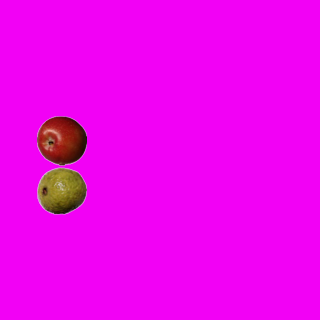Apple Braeburn: (36, 115, 86, 165)
Guava: (36, 165, 86, 215)
